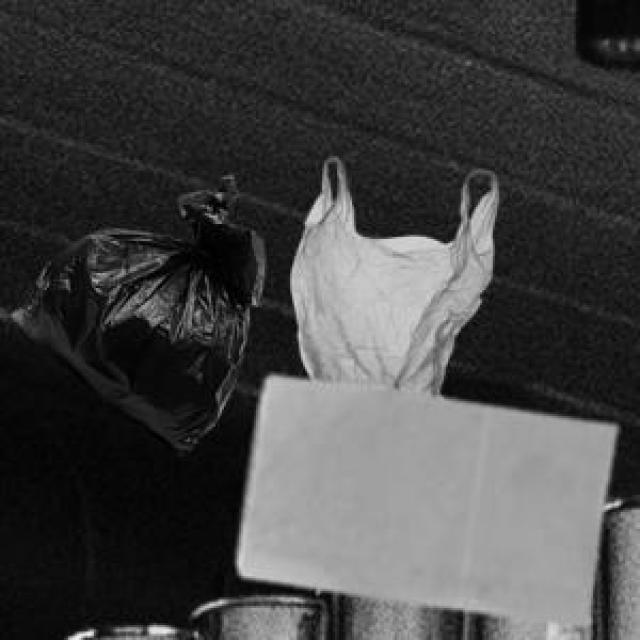miscellaneous trash: (9, 171, 260, 452)
paper: (235, 373, 612, 621)
